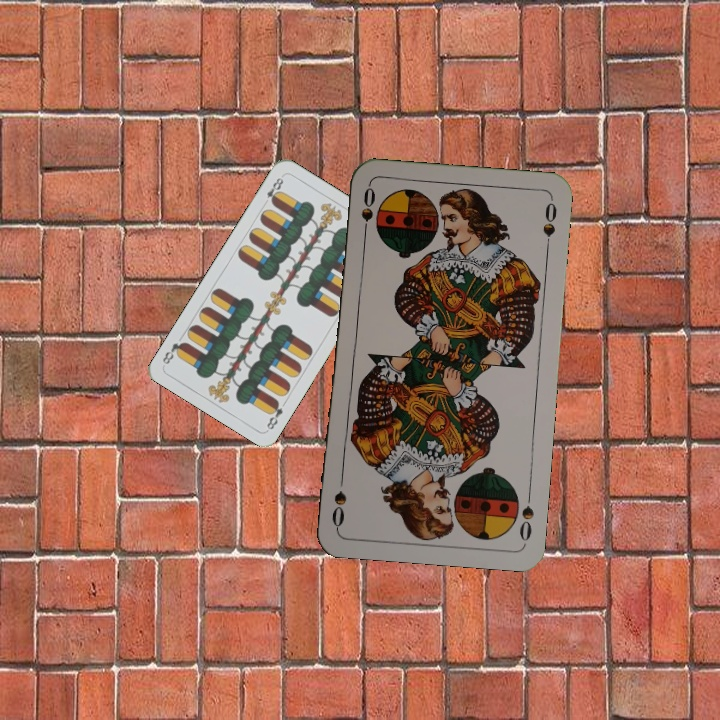E8: (259, 172, 286, 208), (263, 396, 286, 432)
SO: (357, 183, 378, 242), (515, 486, 536, 543)
